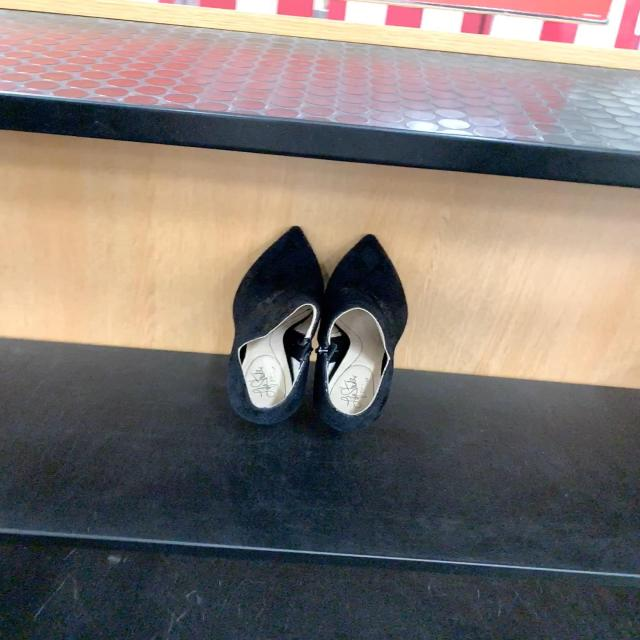shoe: (315, 234, 414, 432), (223, 232, 322, 421)
